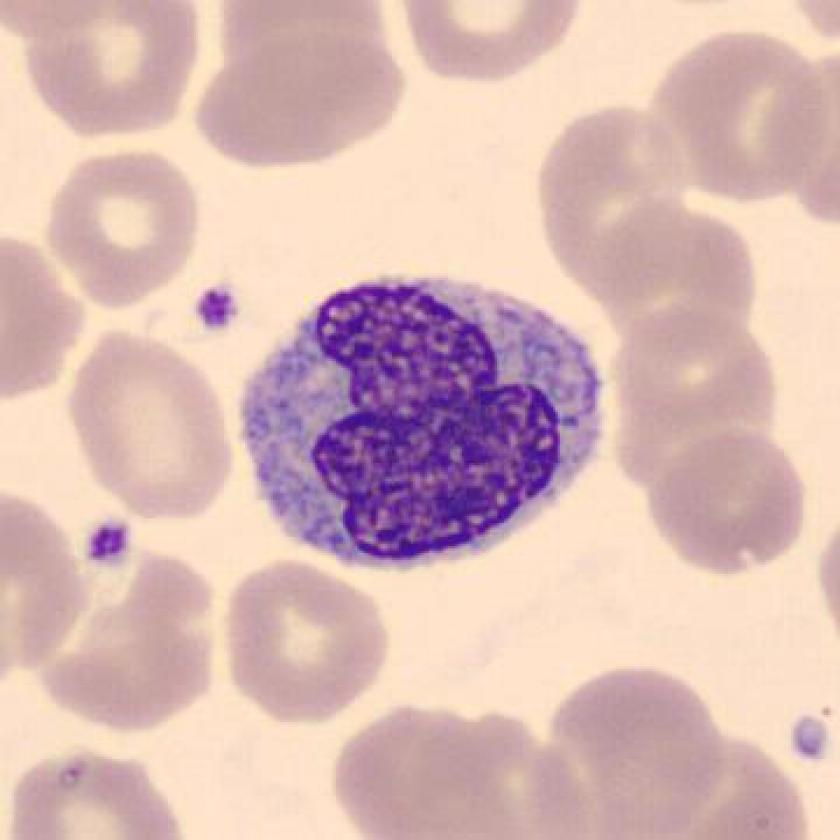monocyte: (216, 251, 629, 582)
